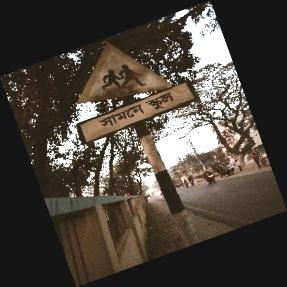School-in-front: (74, 44, 198, 147)
